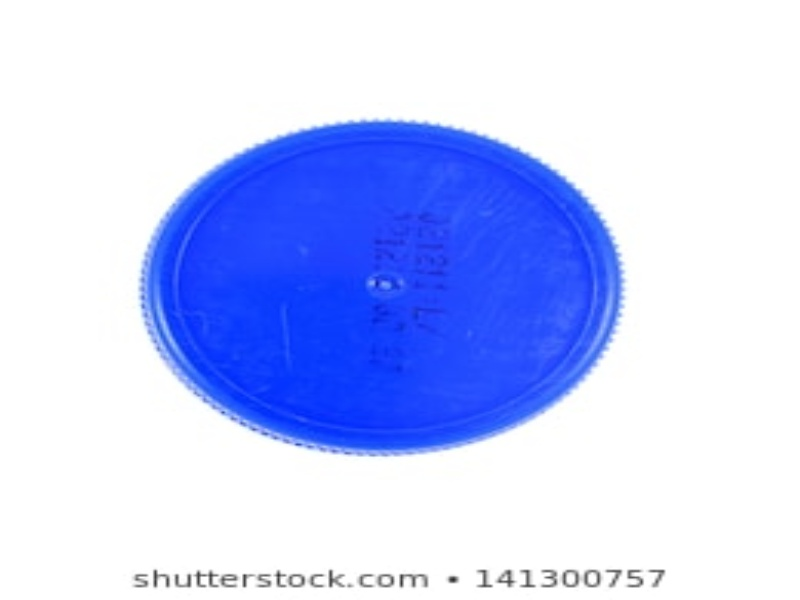bottle-cap: (138, 117, 628, 459)
